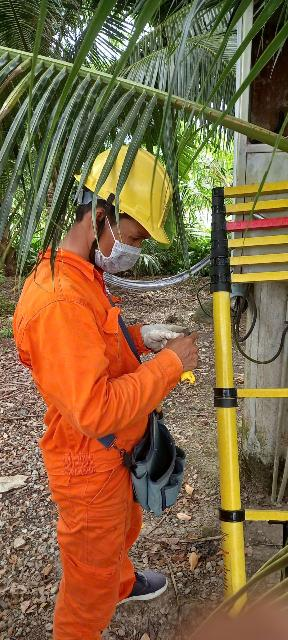gloves: (138, 318, 198, 361)
helmet: (72, 118, 203, 251)
shoes: (117, 561, 174, 607)
